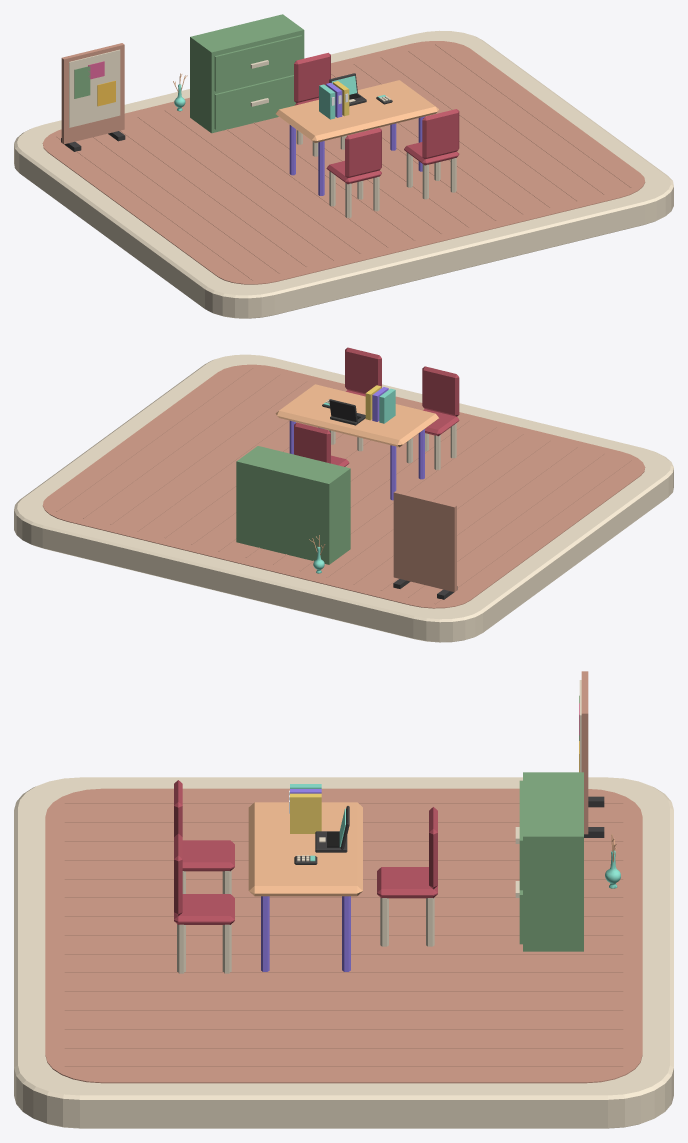
The model's file is room.fbx.
3 views of the same model, one above another, from view 1: azimuth 30°, elevation 25°; view 2: azimuth 150°, elevation 25°; view 3: azimuth 270°, elevation 25° (orthographic). The views are drawn at different scales.
Visible parts, largest first — view 1: COM-02 Floor Surface, COM-01 Rounded Base Direct, Cabinet, Rounded table top, Canvas, Panel, Backrest.001, Backrest, Backrest.002, Abstract geometric work, Seat.001, File (+1 smaller); view 2: COM-02 Floor Surface, COM-01 Rounded Base Direct, Cabinet, Panel, Rounded table top, Backrest, Backrest.001, Backrest.002, File, Seat, Hinged display; view 3: COM-02 Floor Surface, COM-01 Rounded Base Direct, Cabinet, Rounded table top, Seat.002, Seat.001, Seat, File.002, Panel, Plank seam.011, Plank seam.012, Plank seam.013 (+7 smaller).
Part boxes in pixels (box(x1,y1,x2,y2)): COM-02 Floor Surface: box(42, 41, 645, 284); COM-01 Rounded Base Direct: box(14, 30, 673, 318); Cabinet: box(190, 14, 304, 133); Rounded table top: box(276, 80, 438, 142); Canvas: box(69, 49, 120, 127); Panel: box(61, 43, 124, 144); Backrest.001: box(422, 109, 459, 159); Backrest: box(345, 128, 381, 178); Backrest.002: box(294, 52, 330, 102); Abstract geometric work: box(74, 66, 90, 98); Seat.001: box(404, 142, 459, 165); File: box(319, 84, 335, 119); COM-02 Floor Surface: box(42, 364, 645, 608); COM-01 Rounded Base Direct: box(14, 354, 673, 642); Cabinet: box(236, 446, 350, 564); Panel: box(393, 491, 456, 592); Rounded table top: box(275, 384, 438, 447); Backrest: box(422, 366, 459, 416); Backrest.001: box(345, 347, 381, 394); Backrest.002: box(294, 422, 330, 463); File: box(379, 388, 395, 423); Seat: box(423, 409, 459, 436); Hinged display: box(329, 399, 357, 422); COM-02 Floor Surface: box(45, 788, 642, 1083); COM-01 Rounded Base Direct: box(14, 777, 673, 1128); Cabinet: box(515, 772, 583, 951); Rounded table top: box(248, 802, 362, 896); Seat.002: box(377, 867, 437, 898); Seat.001: box(174, 894, 234, 924); Seat: box(182, 840, 234, 871); File.002: box(290, 793, 321, 833); Panel: box(581, 671, 588, 834); Plank seam.011: box(64, 1009, 623, 1010); Plank seam.012: box(64, 1028, 623, 1029); Plank seam.013: box(64, 1047, 623, 1048).
Bounding box in the file's own units: 600 × 142 × 520.
